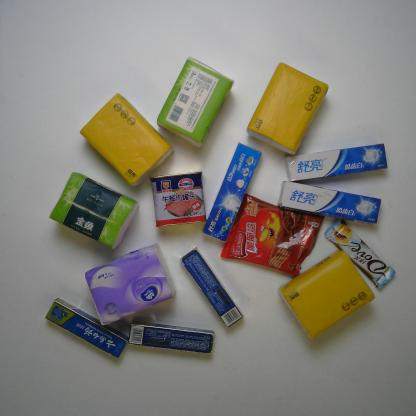Canned Food: (149, 171, 208, 228)
Chocolate: (324, 217, 395, 290)
Dessert: (219, 194, 325, 278)
Personal Hygiene: (201, 141, 262, 243), (180, 245, 244, 328), (45, 297, 129, 359), (278, 179, 381, 225), (283, 143, 388, 182), (128, 320, 216, 354)
Tissue: (78, 92, 174, 187), (277, 249, 375, 341), (245, 61, 329, 156), (84, 243, 177, 326), (47, 170, 141, 250), (156, 56, 235, 150)
